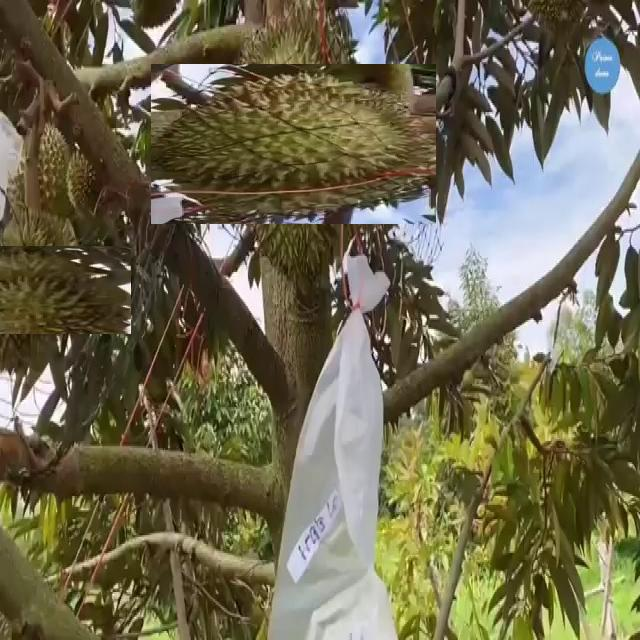durian: (182, 33, 405, 255), (0, 223, 110, 355), (12, 108, 70, 227), (63, 133, 136, 224)
